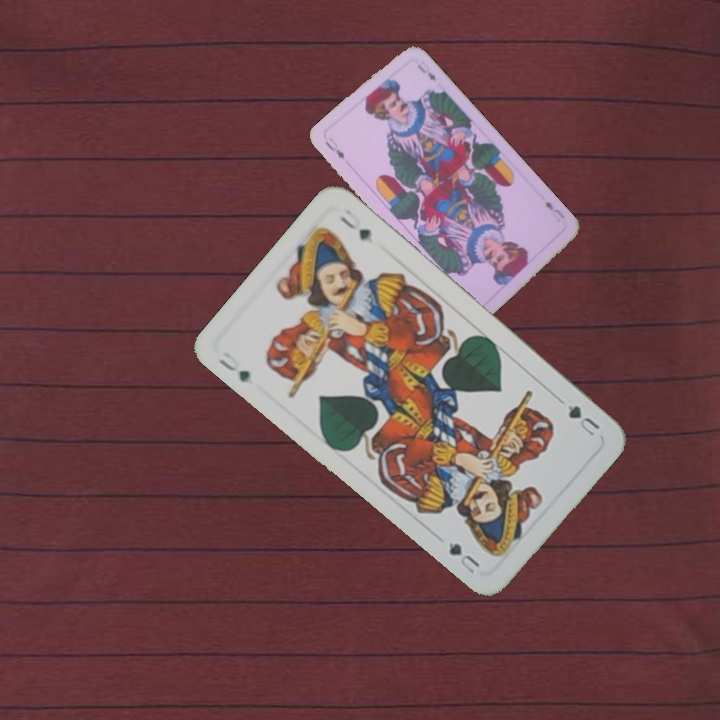EU: (321, 134, 347, 162), (540, 196, 568, 221)
GU: (562, 400, 603, 439), (215, 348, 253, 386)
